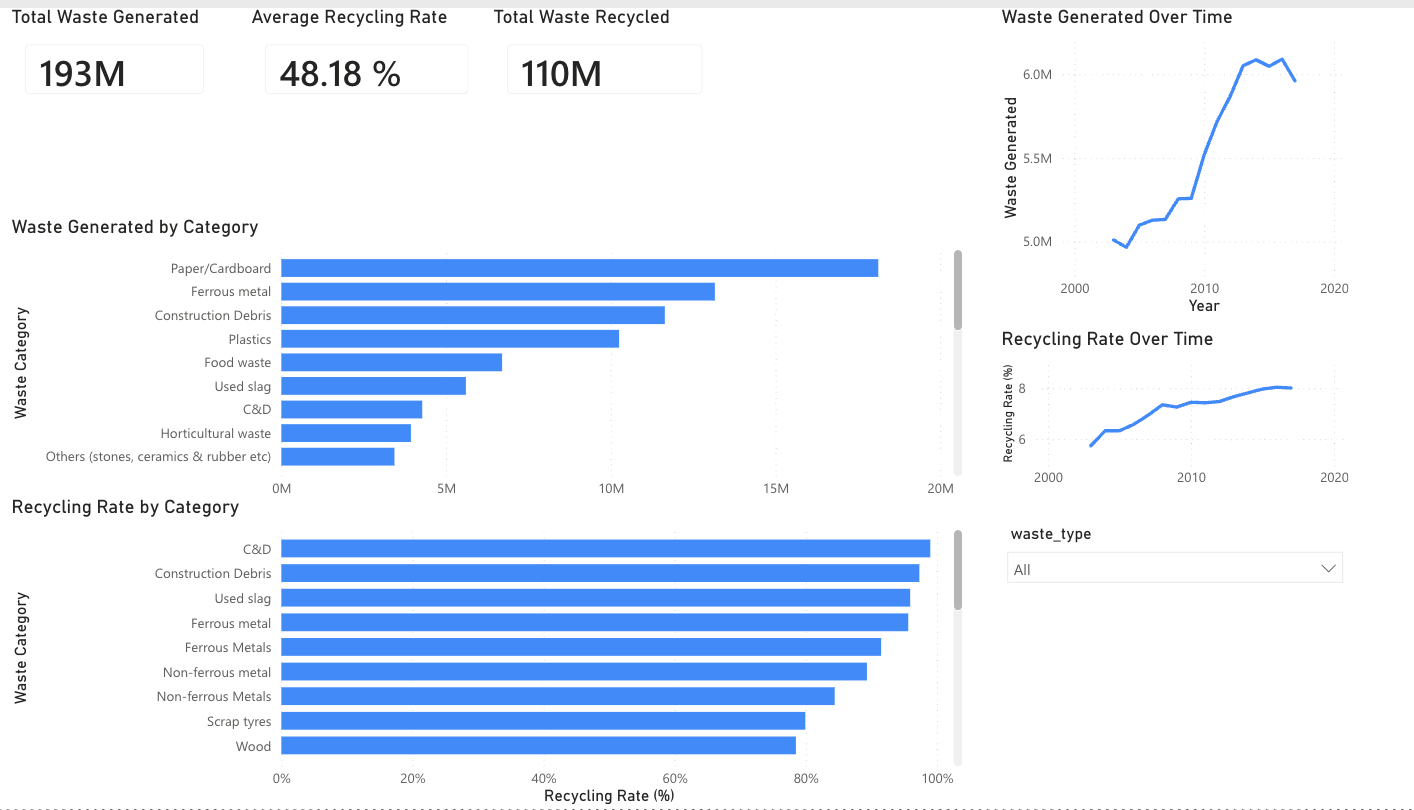

This screenshot's page, from the dashboard's own definition file:
{"tool":"powerbi","page":{"name":"Singapore waste management","canvas":[1280,720],"ordinal":0},"visuals":[{"type":"cardVisual","title":"Total Waste Generated","fields":{"Data":["Sum(2003_2017_waste.total_waste_generated_tonne)"]},"box":[10.8,0,196,95.3],"z":0},{"type":"cardVisual","title":"Total Waste Recycled","fields":{"Data":["Sum(2003_2017_waste.total_waste_recycled_tonne)"]},"box":[444,0,210.3,95.3],"z":1000},{"type":"cardVisual","title":"Average Recycling Rate","fields":{"Data":["Avg(2003_2017_waste.recycling_rate)"]},"box":[226.5,0,217.5,95.3],"z":2000},{"type":"lineChart","title":"Waste Generated Over Time","fields":{"Category":["2003_2017_waste.year"],"Y":["Sum(2003_2017_waste.waste_disposed_of_tonne)"]},"box":[900.7,0,321.8,280.4],"z":3000},{"type":"lineChart","title":"Recycling Rate Over Time","fields":{"Category":["2003_2017_waste.year"],"Y":["Sum(2003_2017_waste.recycling_rate)"]},"box":[900.7,289.4,321.8,151],"z":4000},{"type":"barChart","title":"Waste Generated by Category","fields":{"Category":["2003_2017_waste.waste_type"],"Y":["Sum(2003_2017_waste.total_waste_generated_tonne)"]},"box":[10.8,188.8,864.7,271.5],"z":4001},{"type":"barChart","title":"Recycling Rate by Category","fields":{"Category":["2003_2017_waste.waste_type"],"Y":["Avg(2003_2017_waste.recycling_rate)"]},"box":[10.8,440.4,864.7,280.4],"z":4002},{"type":"slicer","fields":{"Values":["2003_2017_waste.waste_type"]},"box":[900.7,460.2,321.8,86.3],"z":4003}]}

Visuals, with their boxes in screenshot pixels (x1, y1, x2, y2), scaled from the page's 1280x720 canvas onto the 1414x810 screenshot:
"Total Waste Generated" cardVisual: locate(12, 0, 228, 107)
"Total Waste Recycled" cardVisual: locate(490, 0, 723, 107)
"Average Recycling Rate" cardVisual: locate(250, 0, 490, 107)
"Waste Generated Over Time" lineChart: locate(995, 0, 1350, 315)
"Recycling Rate Over Time" lineChart: locate(995, 326, 1350, 495)
"Waste Generated by Category" barChart: locate(12, 212, 967, 518)
"Recycling Rate by Category" barChart: locate(12, 495, 967, 809)
slicer - 2003_2017_waste.waste_type: locate(995, 518, 1350, 615)
